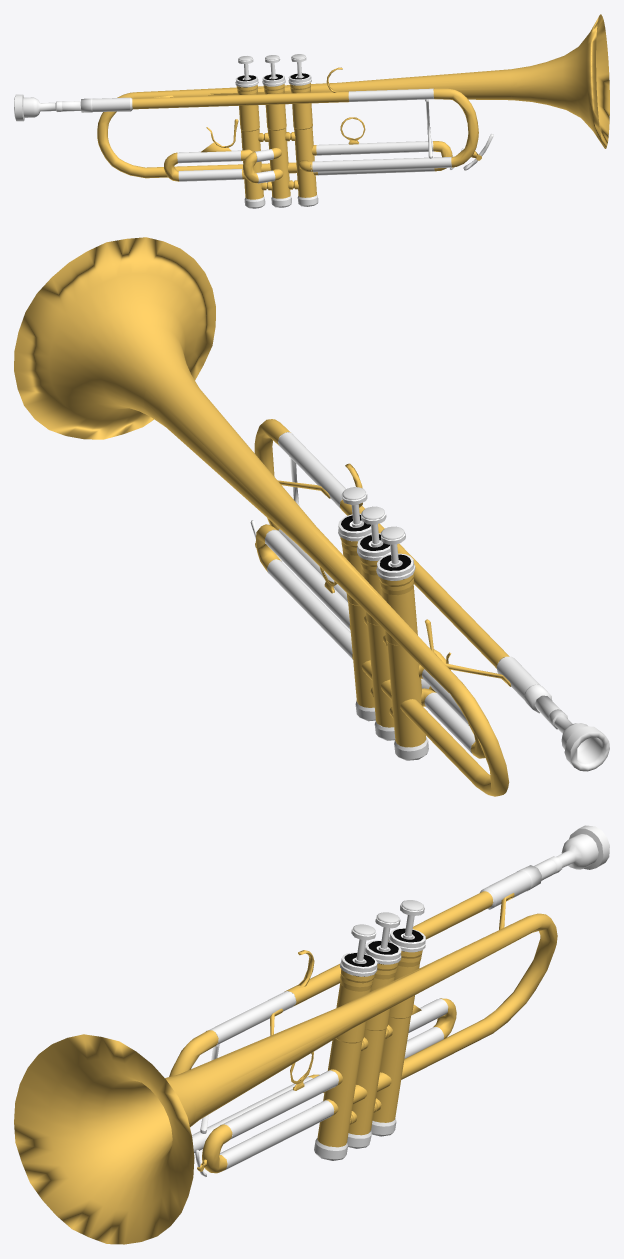
Rendered from trumpet.glb.
3 views of the same model, one above another, from view 1: azimuth 30°, elevation 25°; view 2: azimuth 150°, elevation 25°; view 3: azimuth 270°, elevation 25° (orthographic). The views are drawn at different scales.
Visible parts, largest first — view 1: Cylinder_0, Cylinder_1; view 2: Cylinder_0, Cylinder_1, Cylinder.033_0, Cylinder.004_0; view 3: Cylinder_0, Cylinder_1, Cylinder.004_0, Cylinder.033_0.
Part boxes in pixels (left/top/right/bottom): Cylinder_0: left=97, top=14, right=609, bottom=199; Cylinder_1: left=14, top=56, right=493, bottom=208; Cylinder_0: left=14, top=237, right=511, bottom=796; Cylinder_1: left=250, top=432, right=609, bottom=771; Cylinder.033_0: left=342, top=487, right=404, bottom=539; Cylinder.004_0: left=341, top=515, right=411, bottom=579; Cylinder_0: left=14, top=891, right=557, bottom=1244; Cylinder_1: left=192, top=825, right=609, bottom=1177; Cylinder.004_0: left=344, top=928, right=423, bottom=976; Cylinder.033_0: left=353, top=900, right=423, bottom=935.
Size of the model in its own units: 8.34 by 3.09 by 5.6.
